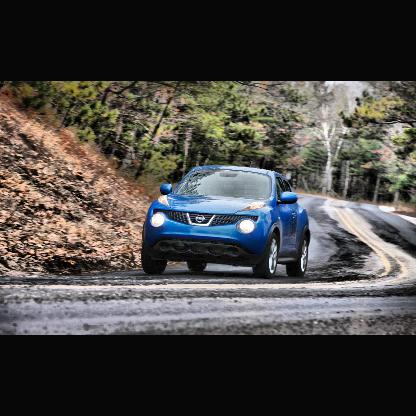Nissan Juke Hatchback 2012: (141, 165, 311, 280)
